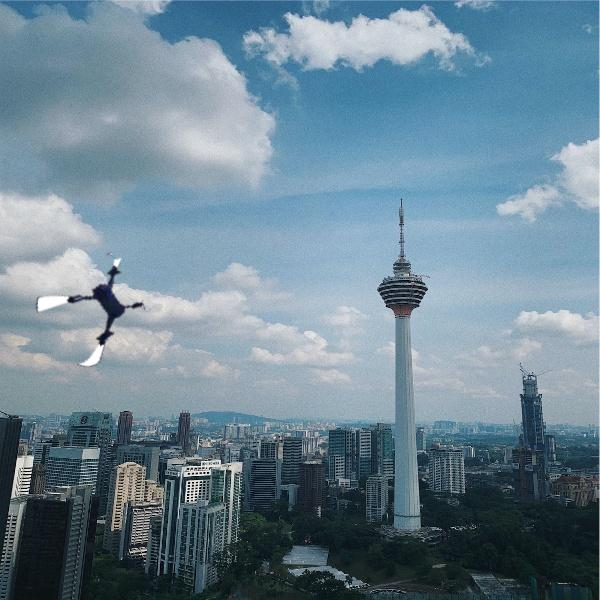drone: (38, 257, 154, 373)
